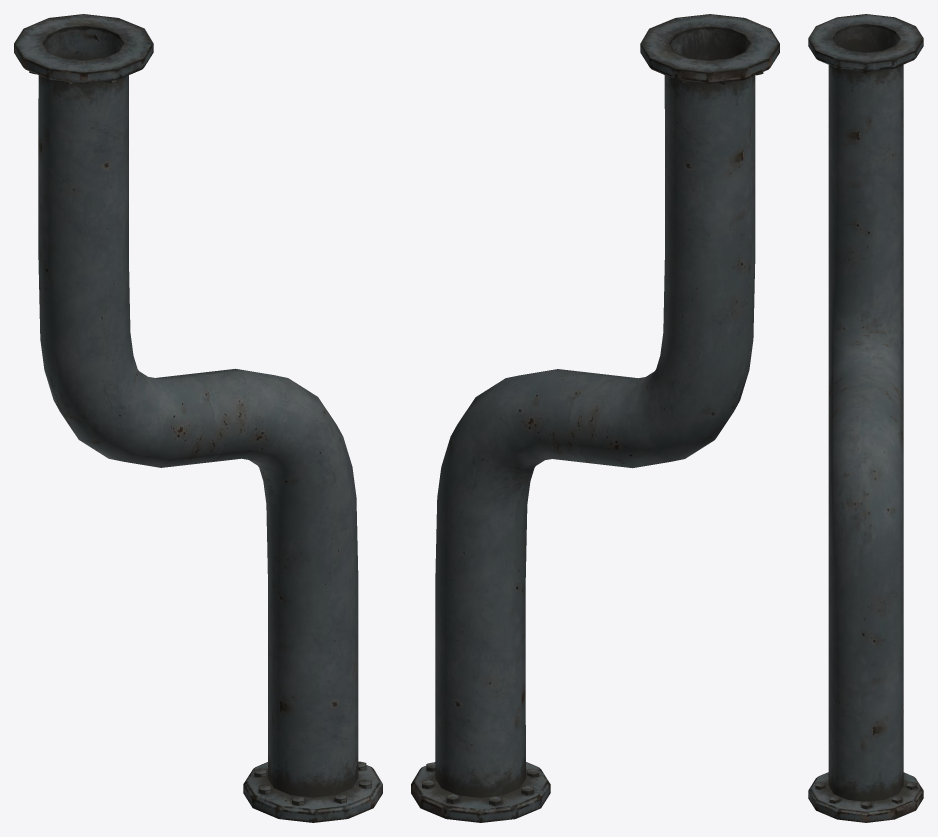
Rendered from pipe03.gltf.
3 renders of one model, left to right at view 1: azimuth 30°, elevation 25°; view 2: azimuth 150°, elevation 25°; view 3: azimuth 270°, elevation 25°, orthographic. The views are drawn at different scales.
Visible parts, largest first — view 1: pipe03; view 2: pipe03; view 3: pipe03.
Boxes of the visible parts, <box> form: pipe03: <box>14,14,382,822</box>; pipe03: <box>411,14,779,822</box>; pipe03: <box>808,14,923,822</box>.
Bounding box in the file's own units: 0.5986 × 1.31 × 0.2064.
1 material, 1 textured.
